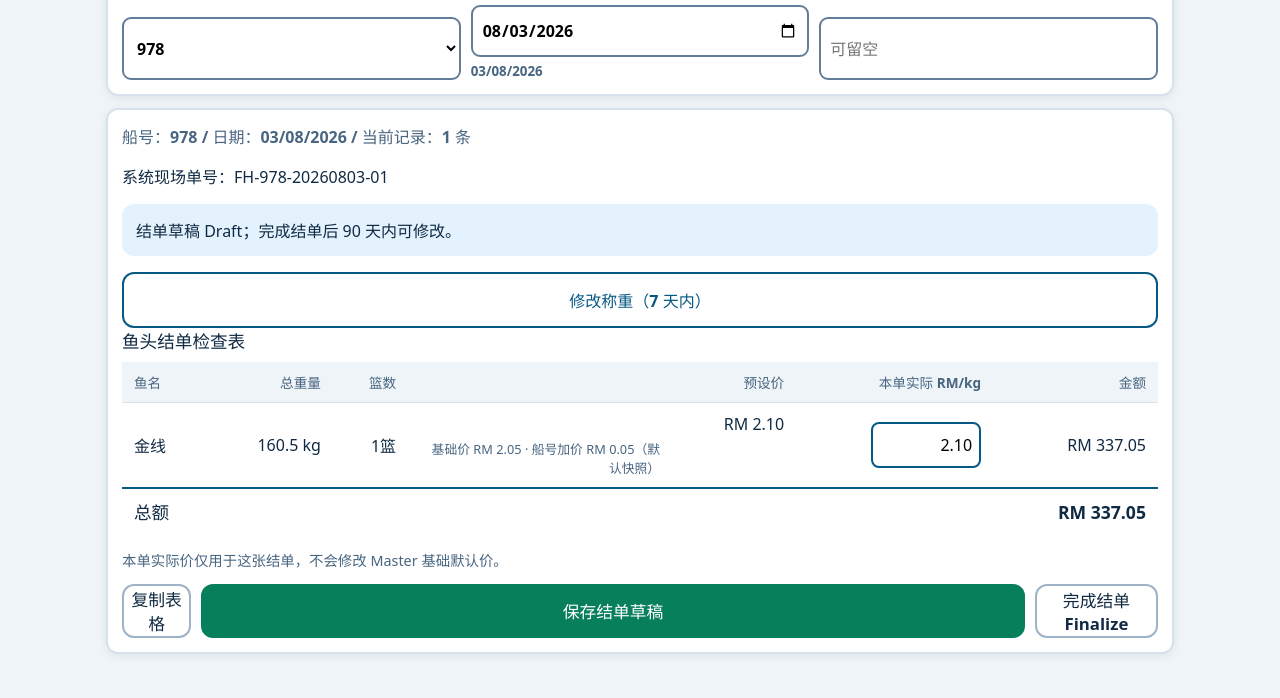
Test case: purchase settlement MVP pages › provides exact selectable TSV instead of false success when clipboard is rejected
(page scrolled)
Expected: the table is shown, [122, 328, 1158, 534]
Click the button "复制表格" at [157, 611], box [122, 584, 191, 638]
(page scrolled)
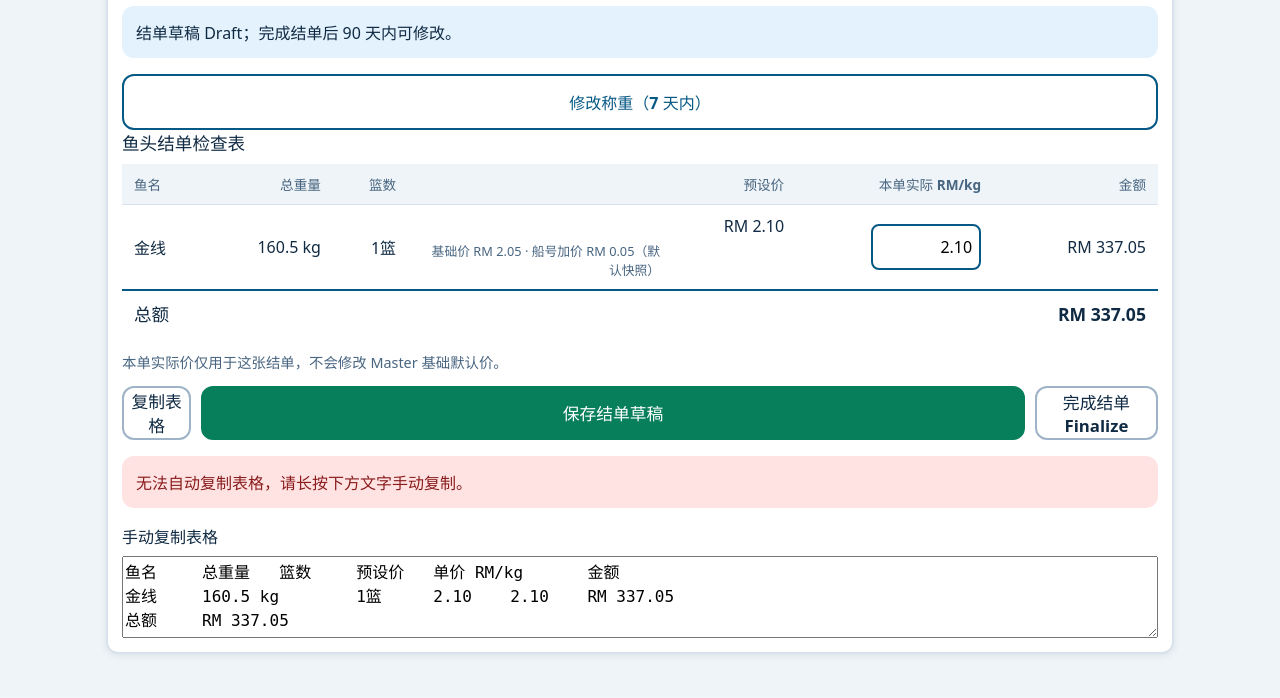
Now the message shows "无法自动复制表格", box [136, 472, 472, 494]
